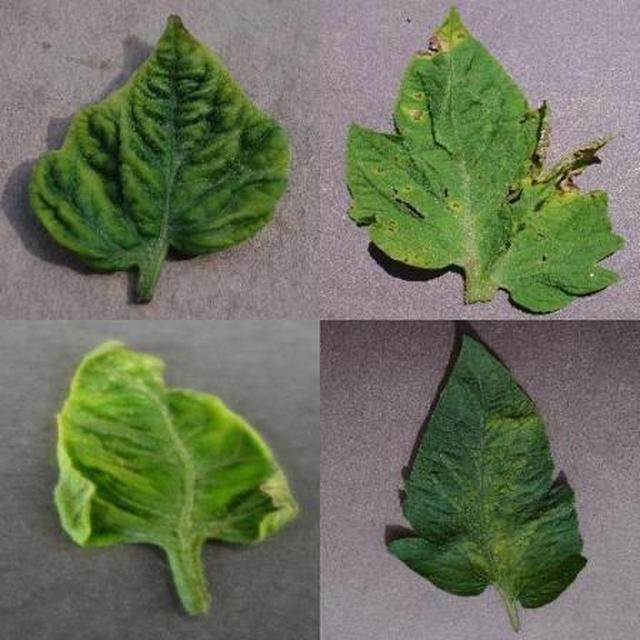Yellow Leaf Curl Virus: (228, 205, 640, 640)
